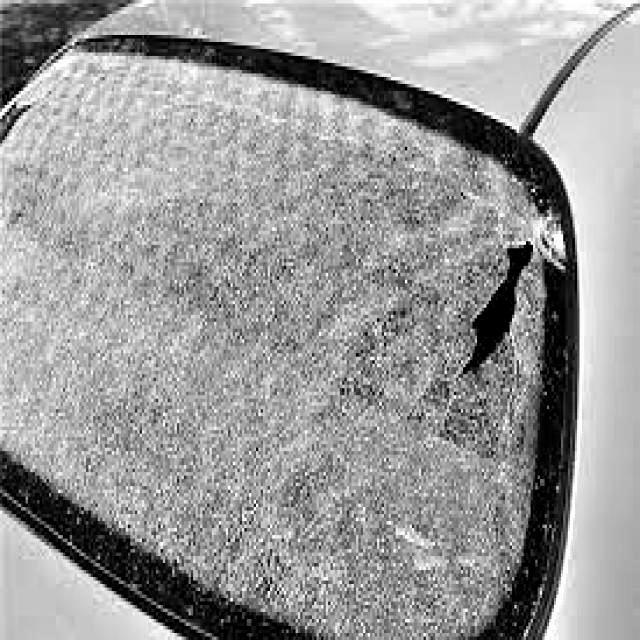Rear-windscreen-Damage: (305, 134, 593, 497)
